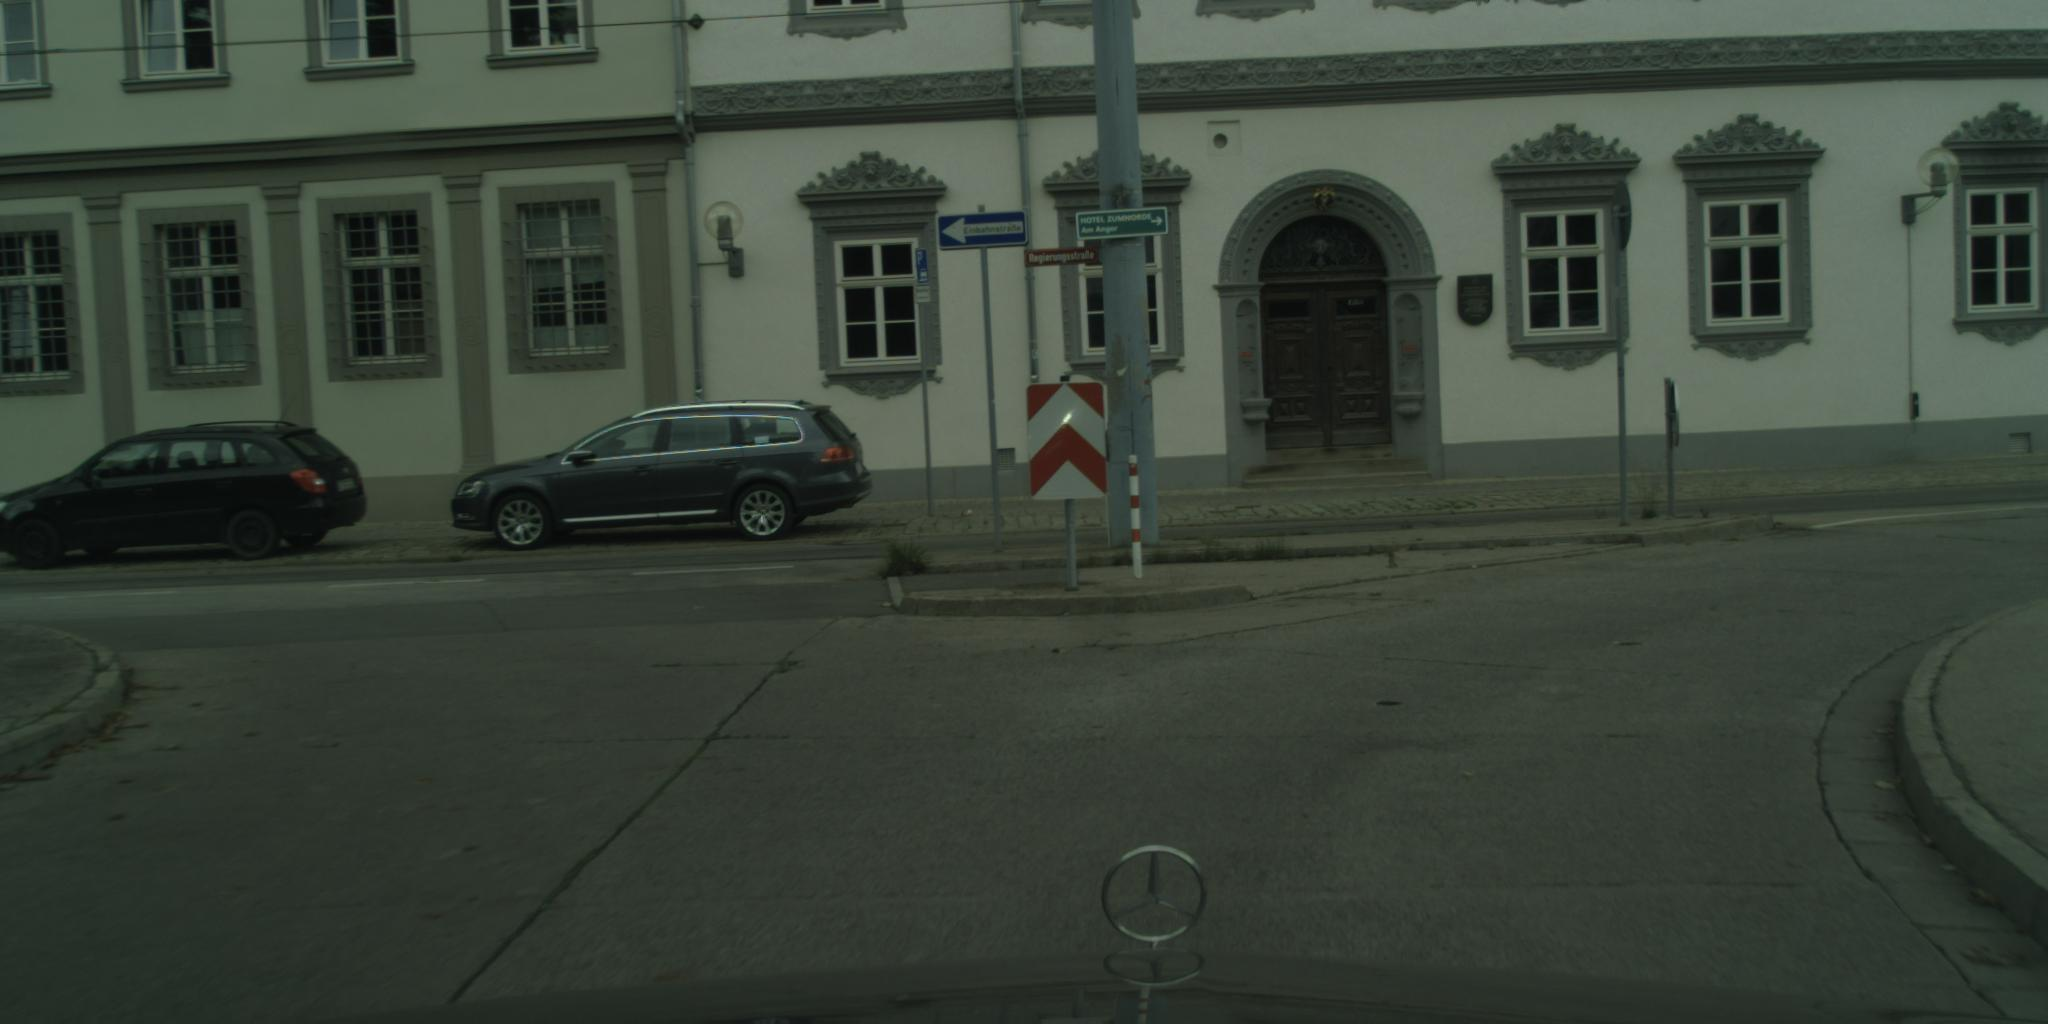car: (451, 401, 874, 552), (1, 422, 368, 571)
